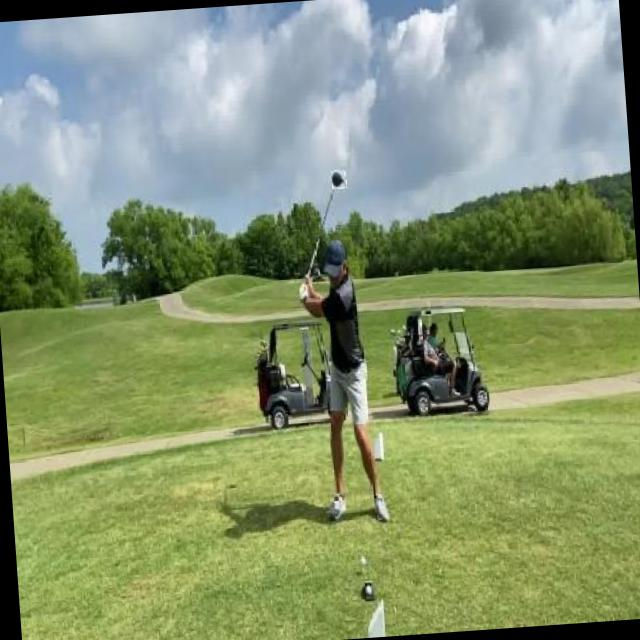club head: (331, 170, 346, 189)
